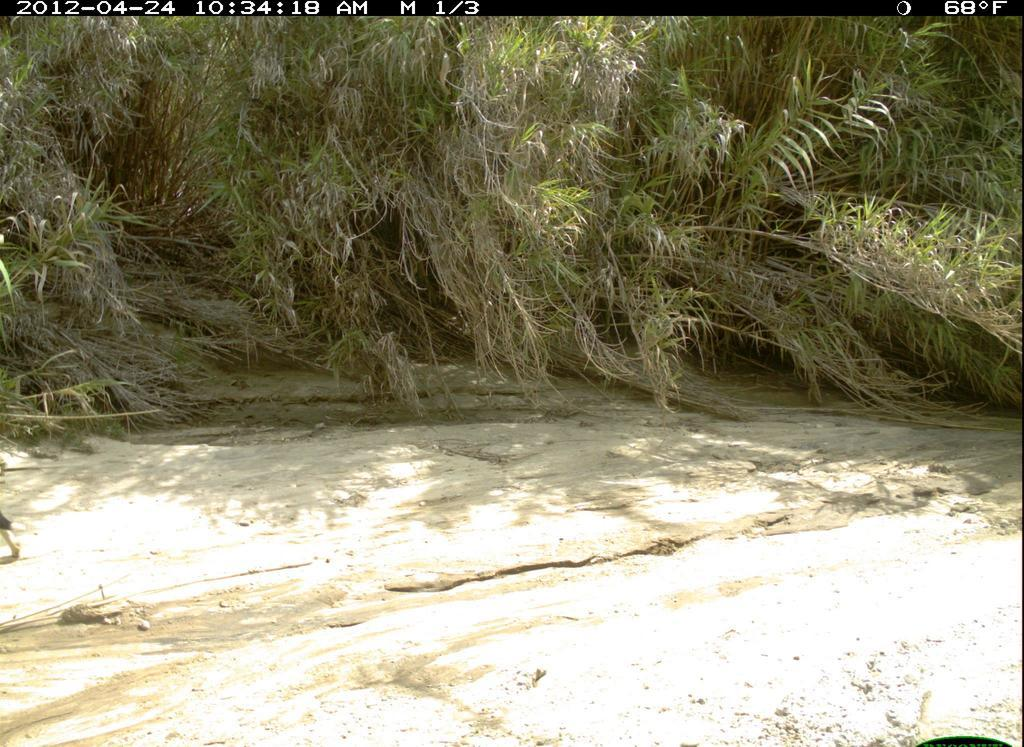dog: (2, 461, 31, 573)
